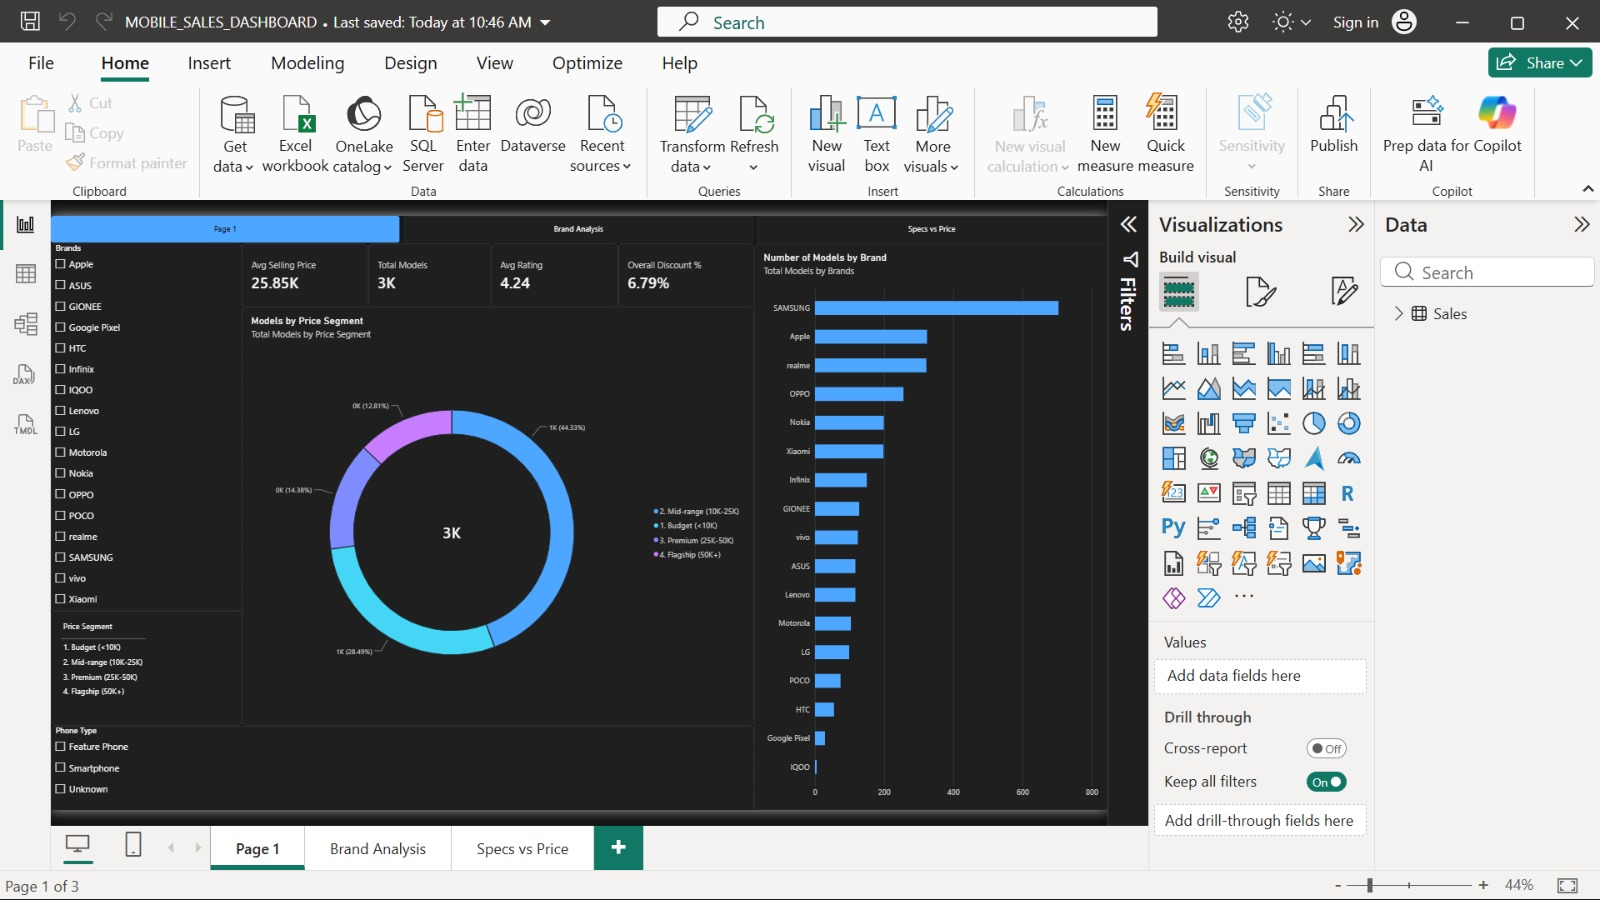

The dashboard page shown, as its layout file describes it:
{"tool":"powerbi","page":{"name":"Overview","canvas":[1920,1080],"ordinal":0},"visuals":[{"type":"cardVisual","fields":{"Data":["Sales.Total Models"]},"box":[324,132,387,170],"z":0},{"type":"cardVisual","fields":{"Data":["Sales.Avg Selling Price"]},"box":[723,132,387,170],"z":1000},{"type":"cardVisual","fields":{"Data":["Sales.Avg Rating"]},"box":[1122,132,387,170],"z":2000},{"type":"cardVisual","fields":{"Data":["Sales.Overall Discount %"]},"box":[1521,132,387,170],"z":3000},{"type":"donutChart","title":"Models by Price Segment","fields":{"Category":["Sales.Price Segment"],"Y":["Sales.Total Models"]},"box":[324,314,520,754],"z":4000},{"type":"clusteredBarChart","title":"Number of Models by Brand","fields":{"Category":["Sales.Brands"],"Y":["Sales.Total Models"]},"box":[856,314,1052,754],"z":5000},{"type":"slicer","title":"Phone Type","fields":{"Values":["Sales.Phone Type"]},"box":[12,132,300,150],"z":6000},{"type":"slicer","title":"Brands","fields":{"Values":["Sales.Brands"]},"box":[12,512,300,556],"z":7000},{"type":"slicer","title":"Price Segment","fields":{"Values":["Sales.Price Segment"]},"box":[12,292,300,210],"z":8000},{"type":"pageNavigator","box":[0,0,1920,50],"z":8001},{"type":"textbox","box":[12,58,1896,64],"z":9000}]}

Visuals, with their boxes on the page's 1920x1080 design canvas (x1, y1, x2, y2). These are canvas units, not pixel positions in the 1600x900 screenshot, which may show the page scaled, cropped or inside an application window:
cardVisual - Sales.Total Models: detection(324, 132, 711, 302)
cardVisual - Sales.Avg Selling Price: detection(723, 132, 1110, 302)
cardVisual - Sales.Avg Rating: detection(1122, 132, 1509, 302)
cardVisual - Sales.Overall Discount %: detection(1521, 132, 1908, 302)
"Models by Price Segment" donutChart: detection(324, 314, 844, 1068)
"Number of Models by Brand" clusteredBarChart: detection(856, 314, 1908, 1068)
"Phone Type" slicer: detection(12, 132, 312, 282)
"Brands" slicer: detection(12, 512, 312, 1068)
"Price Segment" slicer: detection(12, 292, 312, 502)
pageNavigator: detection(0, 0, 1920, 50)
textbox: detection(12, 58, 1908, 122)
